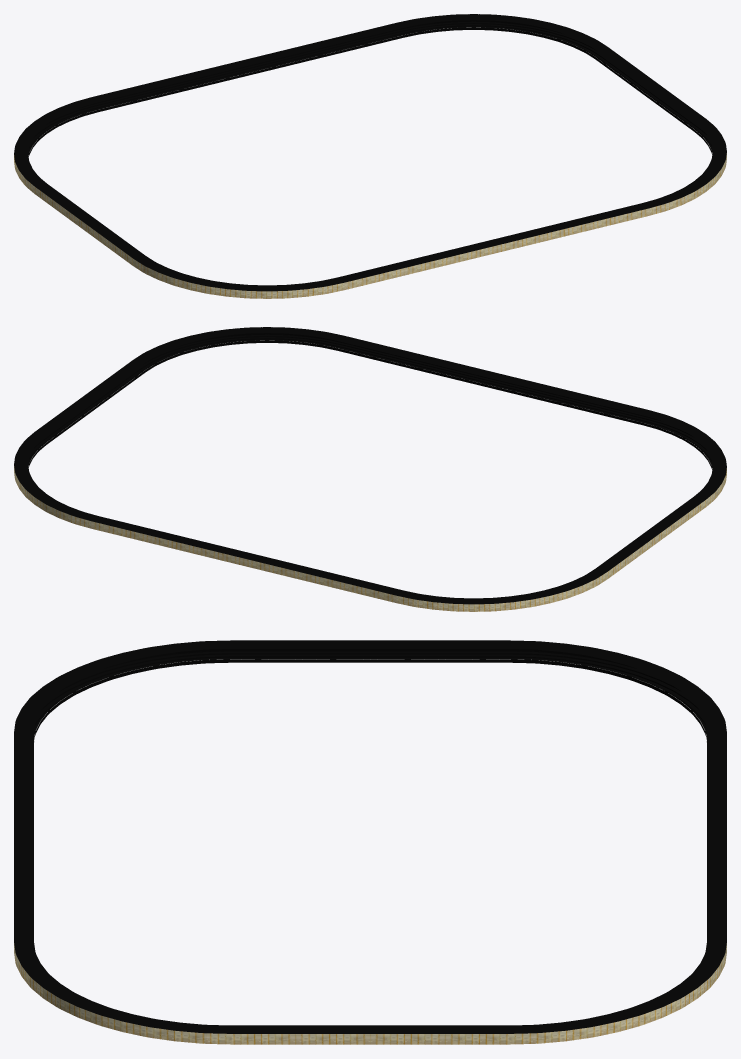
File: Level_3.fbx
3 views of the same model, one above another, from view 1: azimuth 30°, elevation 25°; view 2: azimuth 150°, elevation 25°; view 3: azimuth 270°, elevation 25° (orthographic). The views are drawn at different scales.
Visible parts, largest first — view 1: Level 3; view 2: Level 3; view 3: Level 3.
Boxes of the visible parts, x1,y1,x2,y2 form: Level 3: (14, 14, 726, 298); Level 3: (14, 327, 726, 611); Level 3: (14, 640, 726, 1044).
Bounding box in the file's own units: 7240 × 121 × 5544.
6 materials, 1 textured.
